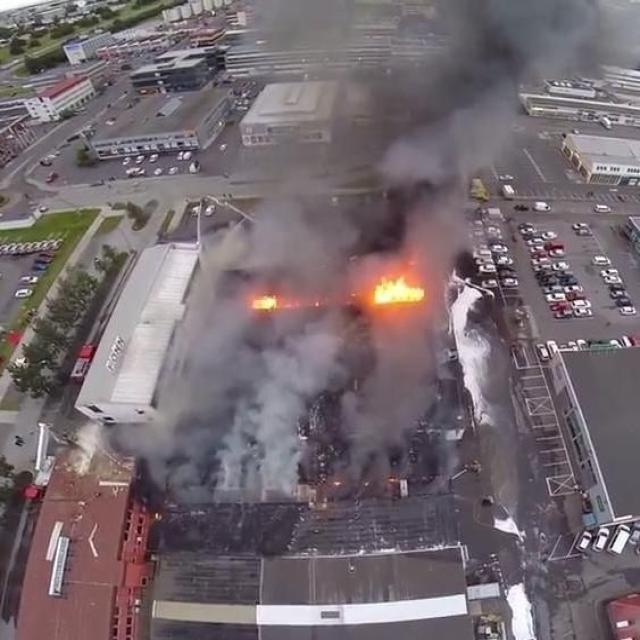Fire: (247, 278, 432, 306)
Smoke: (212, 0, 640, 281), (178, 304, 451, 495)
